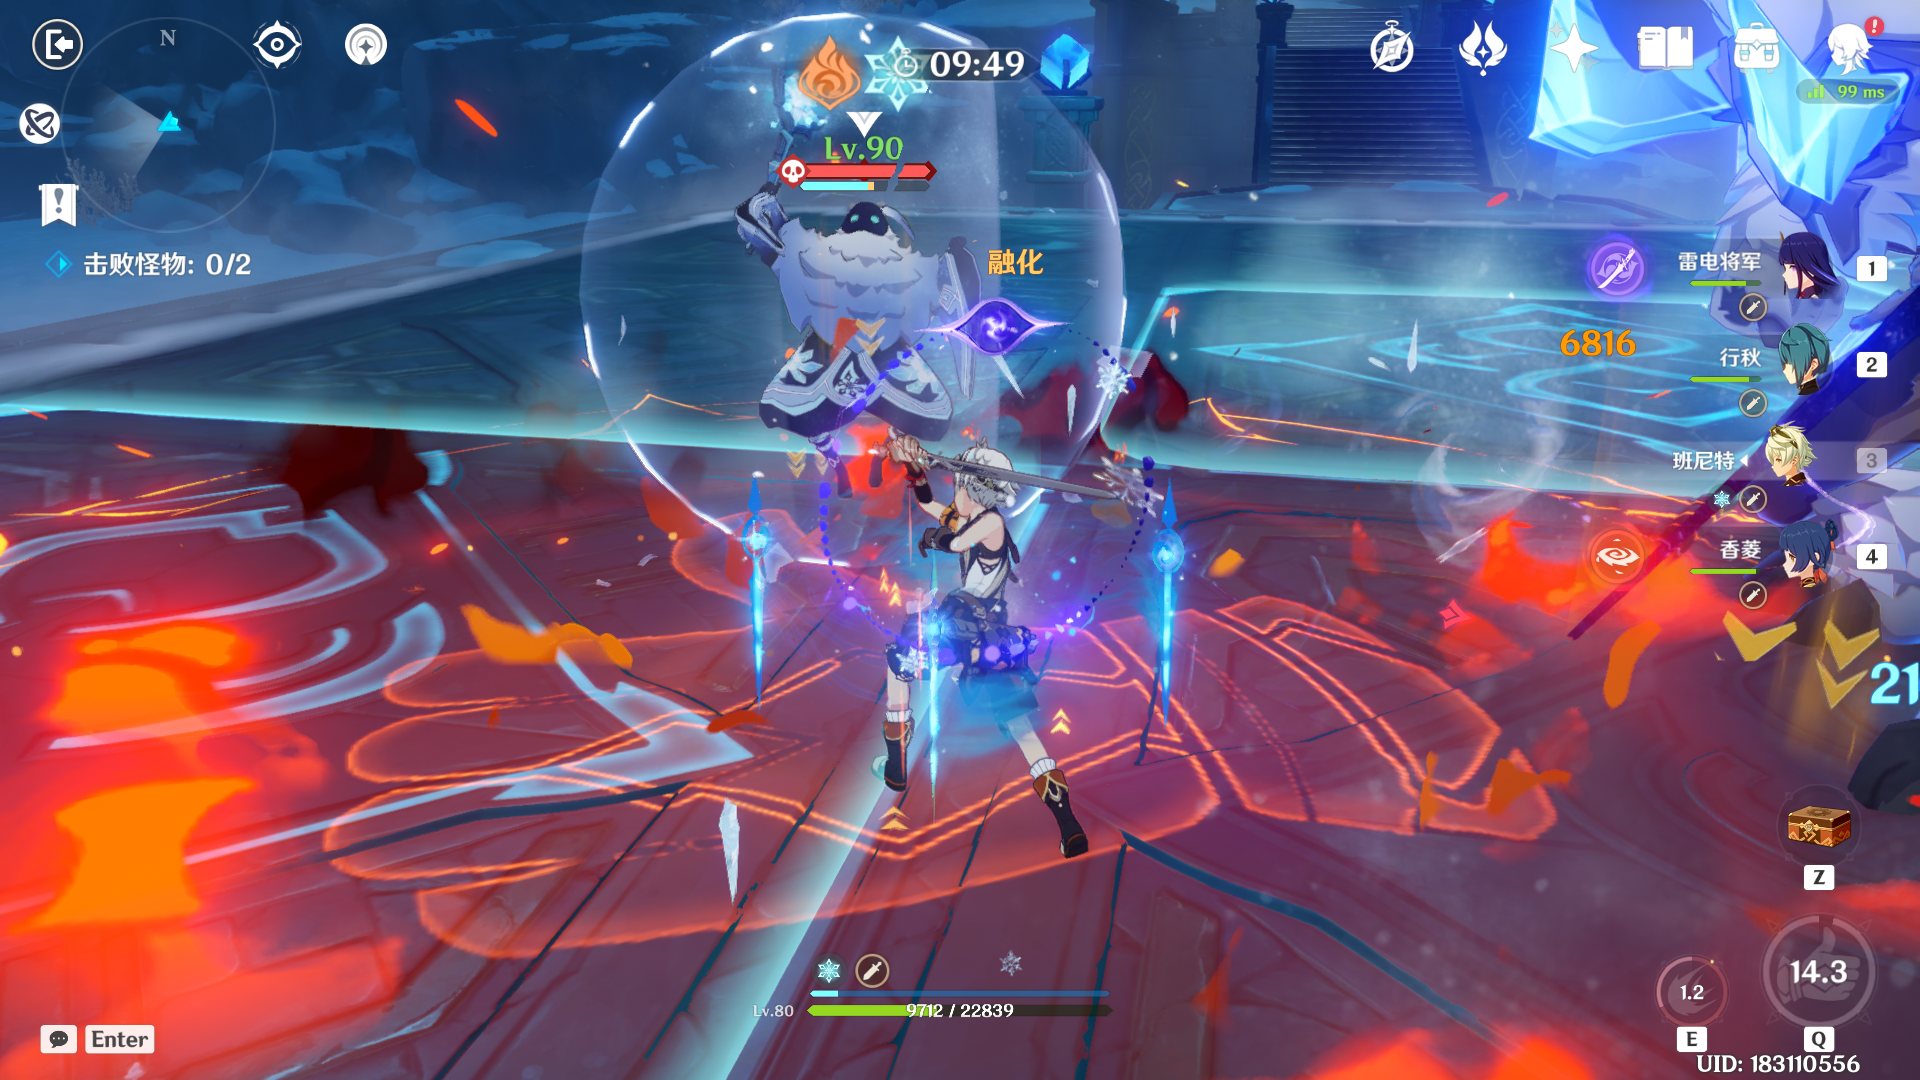caster: (695, 40, 1026, 502)
character: (829, 389, 1137, 878)
